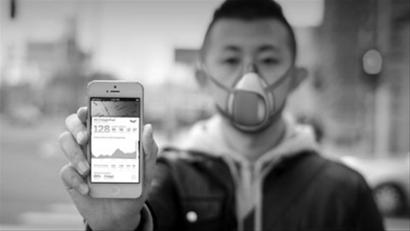face_mask: (210, 20, 288, 131)
